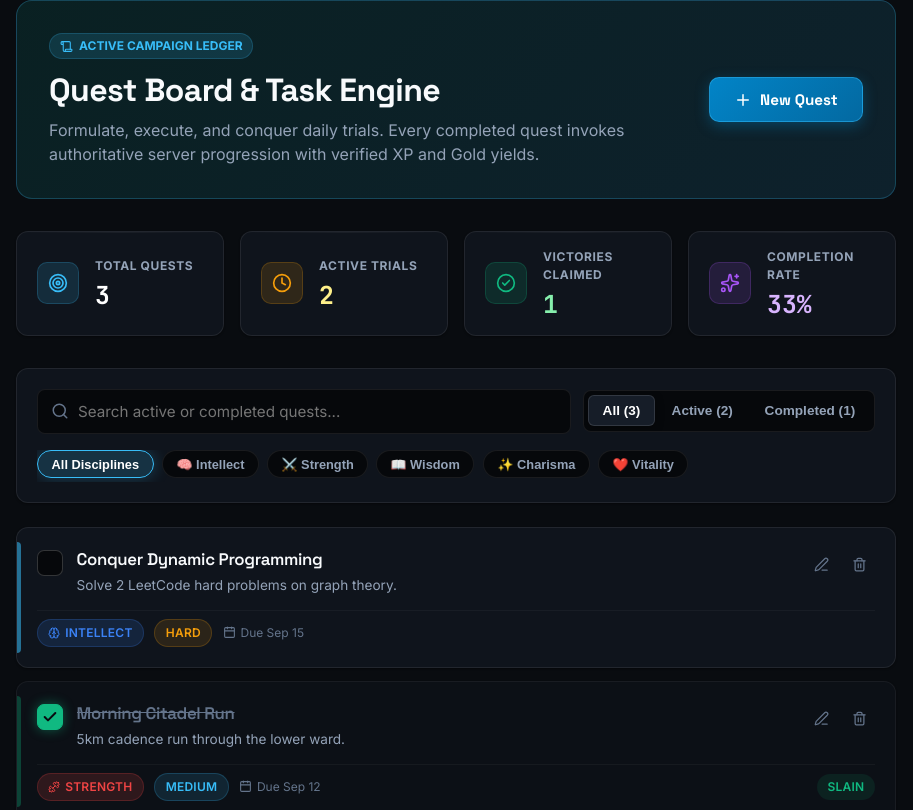
Test: Quest System UI & CRUD Operations › handles empty search results and provides a reset button
Type "NonexistentSearch12345" into the field with placeholder "Search active or completed quests..." at (304,411), box [37,389,571,434]
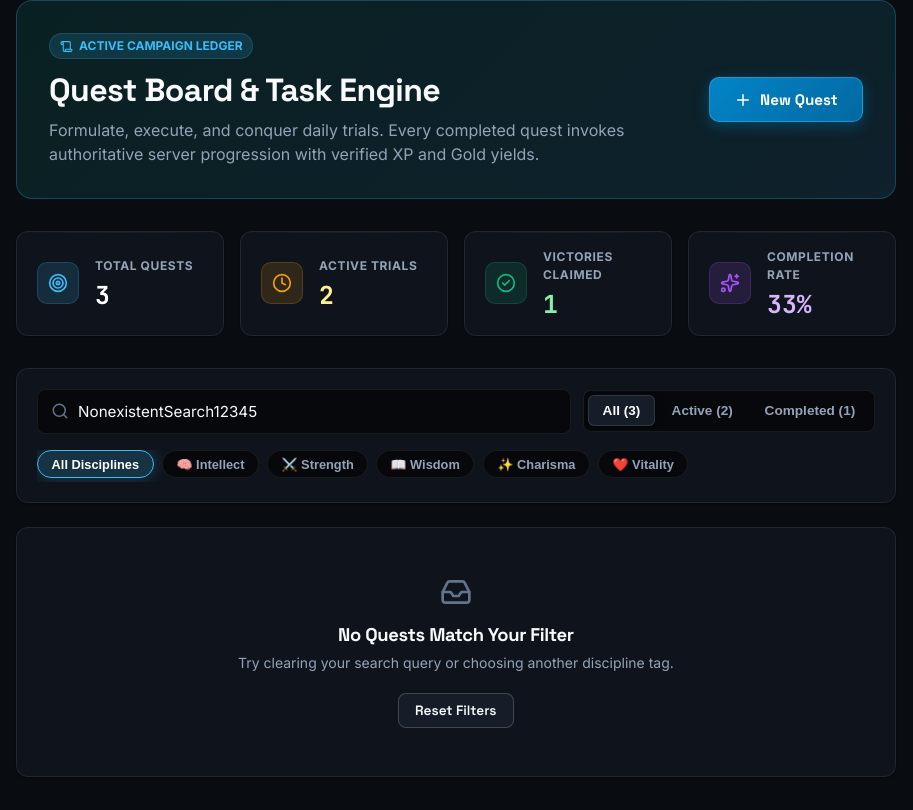
Expected: the heading "No Quests Match Your Filter" is shown, [338,624,574,646]
Expected: the button "Reset Filters" is shown
Click the button "Reset Filters" at (456,711), box [398,693,514,728]
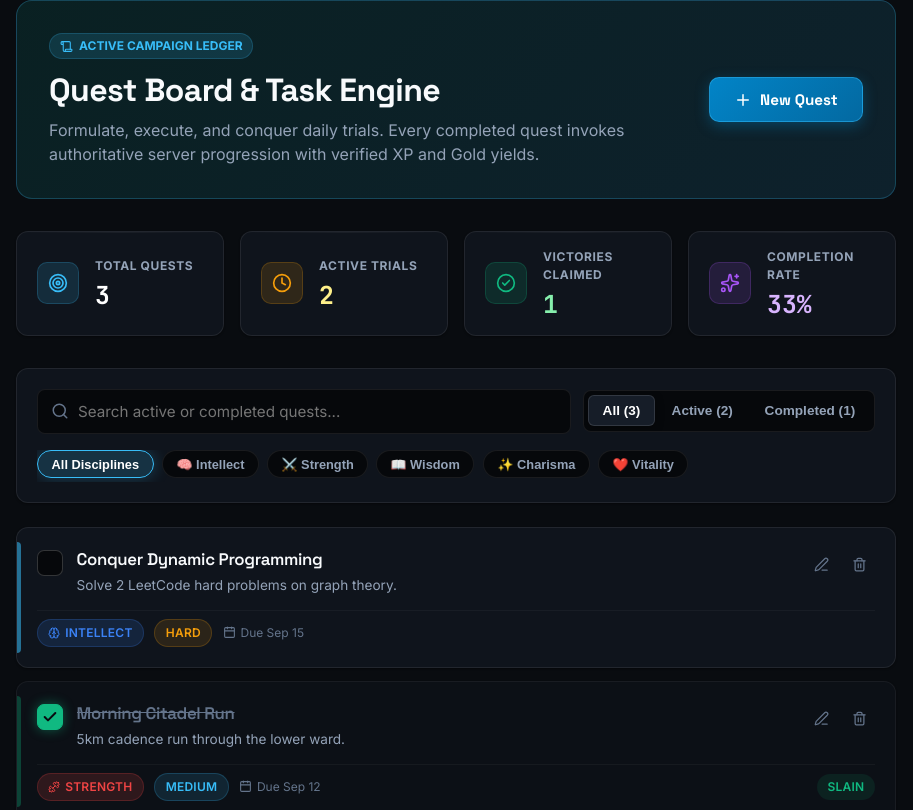
Expected: the heading "Conquer Dynamic Programming" is shown, [77,548,323,570]
